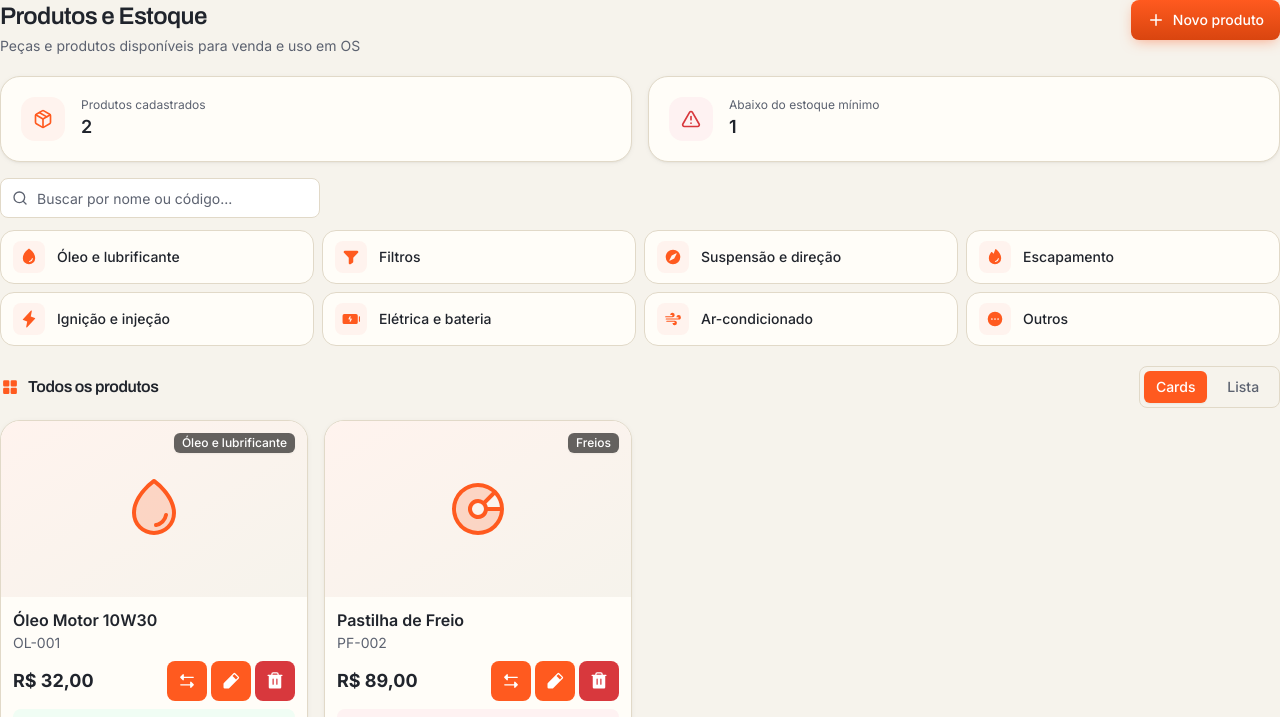
ProdutosPage › opens the movimentação modal from its row action
Click the button named "Movimentar estoque" next to "R$ 32,00" at (187, 681), box [167,661,207,701]
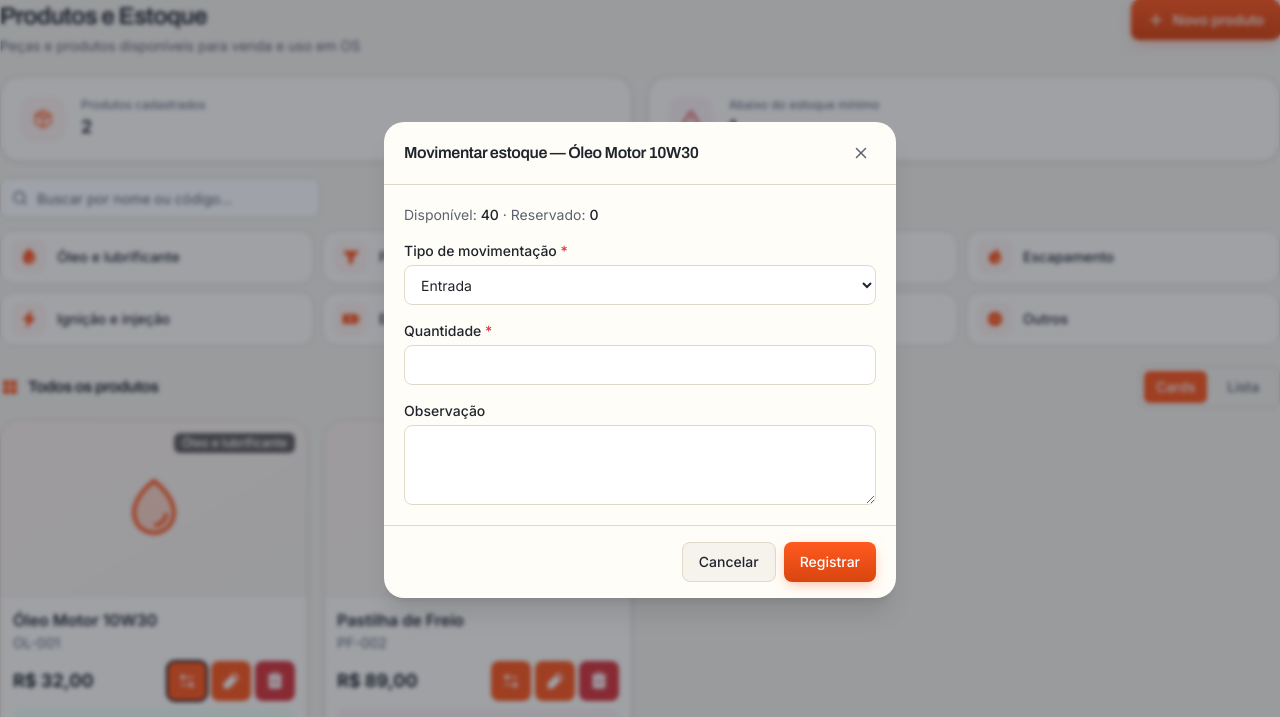
expect the heading "Movimentar estoque — Óleo Motor 10W30" is shown: met, box [404,141,699,165]
